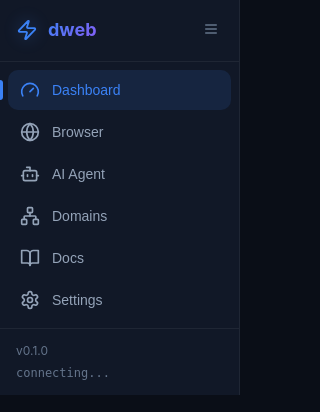
Sidebar › should hide labels when collapsed
Click the 1st button. click: (211, 30)
box: [199, 17, 223, 44]
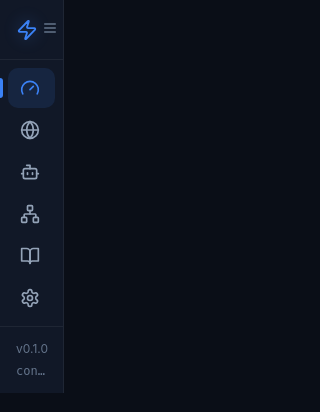
Check: the text "Dashboard" is gone
Check: the text "AI Agent" is gone
